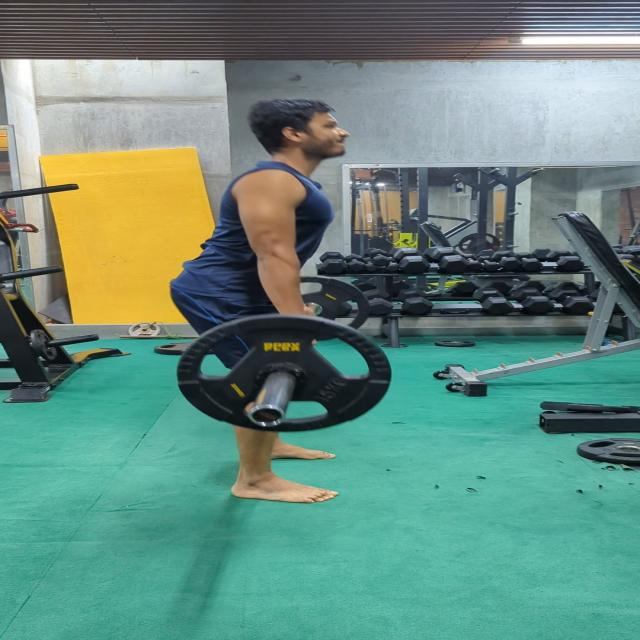Normal_Deadlifts: (164, 98, 350, 506)
